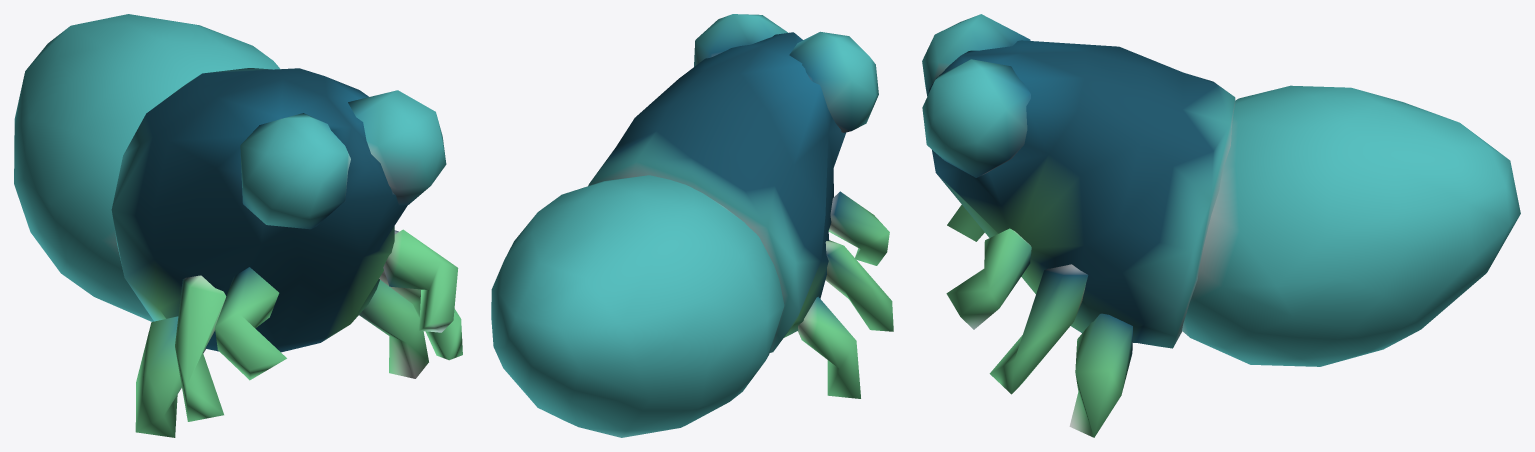
File: Corp_COLOR_Firefly-1.fbx
3 views of the same model, side by side, from view 1: azimuth 30°, elevation 25°; view 2: azimuth 150°, elevation 25°; view 3: azimuth 270°, elevation 25° (orthographic). The views are drawn at different scales.
Parts seen in each view (by area): view 1: PM3D_Sphere3D_1; view 2: PM3D_Sphere3D_1; view 3: PM3D_Sphere3D_1.
Part boxes in pixels (left/top/right/bottom): PM3D_Sphere3D_1: left=14, top=14, right=462, bottom=437; PM3D_Sphere3D_1: left=491, top=14, right=893, bottom=437; PM3D_Sphere3D_1: left=922, top=14, right=1520, bottom=437.
Bounding box in the file's own units: 2.24 × 2.49 × 4.09.
